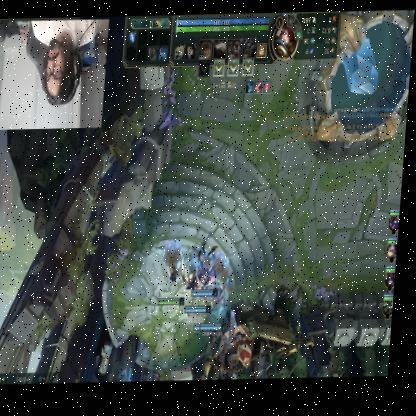streamer: (25, 19, 100, 106)
